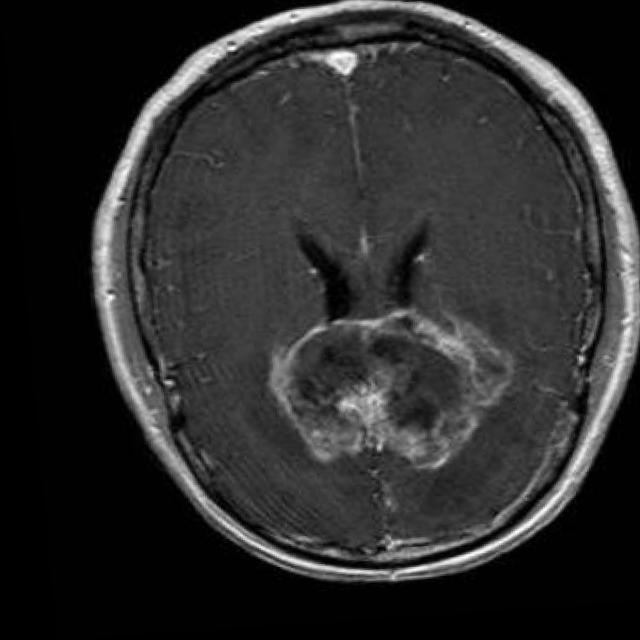Tumor: (267, 312, 507, 478)
